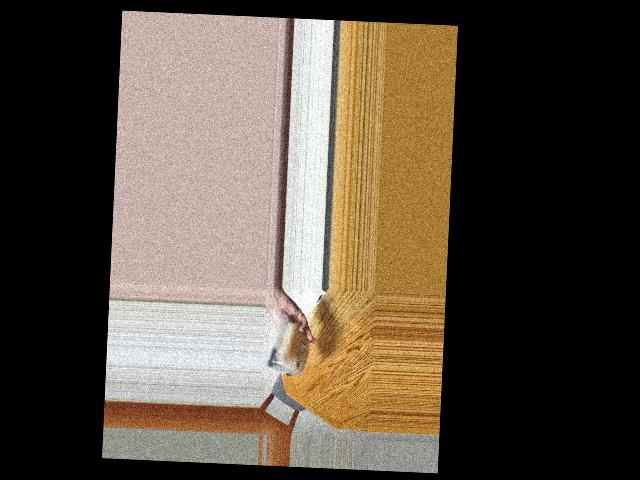cheese: (267, 319, 313, 379)
